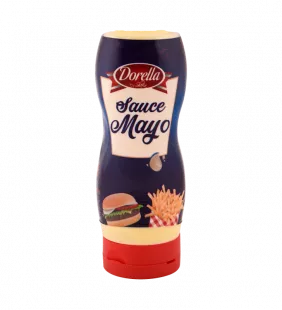DORELLA: (84, 20, 196, 284)
